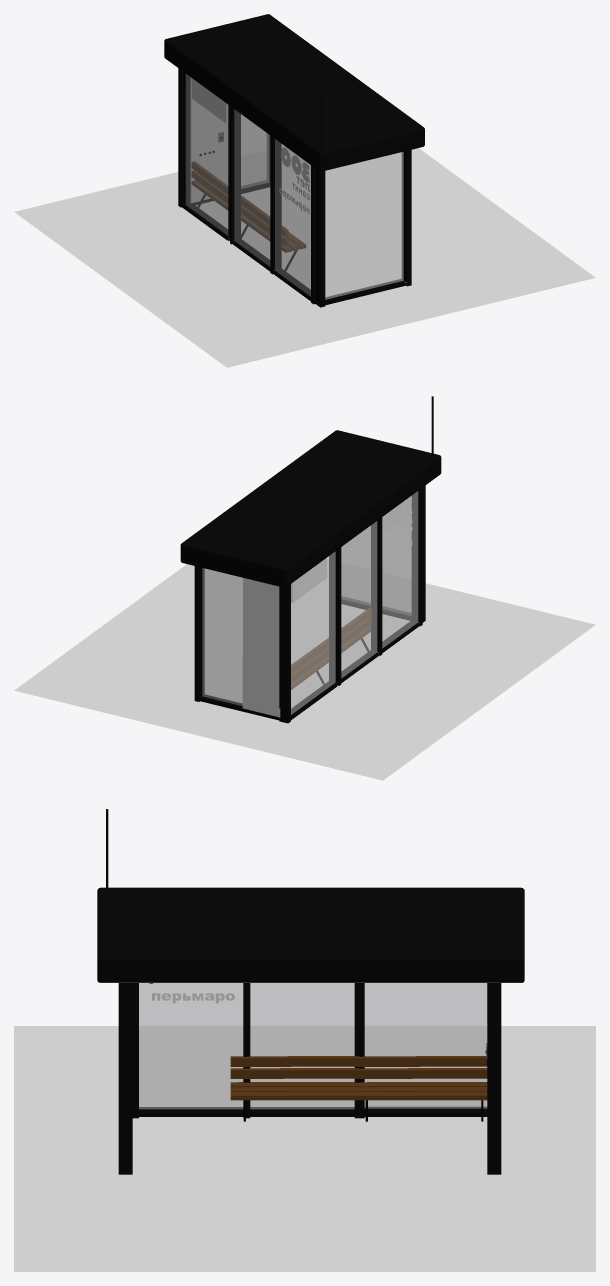
File: остановка.fbx
3 views of the same model, one above another, from view 1: azimuth 30°, elevation 25°; view 2: azimuth 150°, elevation 25°; view 3: azimuth 270°, elevation 25° (orthographic). The views are drawn at different scales.
Parts seen in each view (by area): view 1: Plane, Cube, Plane.003, Plane.002, Cube.003, Cube.001, Cube.005, Cube.002, Plane.005, Cube.004, Cube.006; view 2: Plane, Cube, Plane.003, Plane.005, Cube.005, Cube.003, Plane.002, Cube.002, Cube.004, Cube.001, Cube.006; view 3: Plane, Cube, Plane.003, Cube.003, Cube.001, Cube.004, Cube.002, Cube.019, Cube.020, Cube.008, Cube.007, Cube.011 (+5 smaller).
Boxes of the visible parts, x1,y1,x2,y2 form: Plane: [14, 146, 595, 367]; Cube: [164, 14, 424, 171]; Plane.003: [185, 74, 310, 296]; Plane.002: [325, 152, 403, 299]; Cube.003: [230, 106, 315, 304]; Cube.001: [315, 149, 411, 307]; Cube.005: [190, 77, 227, 202]; Cube.002: [178, 68, 234, 243]; Plane.005: [241, 115, 268, 188]; Cube.004: [183, 72, 269, 204]; Cube.006: [192, 78, 227, 123]; Plane: [14, 559, 595, 780]; Cube: [180, 430, 441, 587]; Plane.003: [291, 491, 419, 714]; Plane.005: [202, 568, 242, 705]; Cube.005: [242, 578, 280, 717]; Cube.003: [331, 488, 422, 685]; Plane.002: [342, 497, 410, 615]; Cube.002: [279, 550, 337, 723]; Cube.004: [194, 566, 285, 722]; Cube.001: [341, 485, 425, 622]; Cube.006: [291, 558, 326, 602]; Plane: [14, 1026, 595, 1271]; Cube: [97, 887, 524, 982]; Plane.003: [139, 983, 487, 1109]; Cube.003: [132, 983, 360, 1118]; Cube.001: [118, 983, 132, 1174]; Cube.004: [487, 983, 501, 1174]; Cube.002: [361, 983, 487, 1118]; Cube.019: [230, 1068, 359, 1078]; Cube.020: [230, 1056, 359, 1066]; Cube.008: [359, 1068, 487, 1078]; Cube.007: [359, 1056, 487, 1066]; Cube.011: [359, 1091, 487, 1100].
Size of the model in its own units: 1440 by 844 by 1440.
